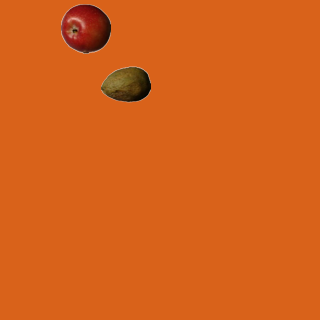Apple Braeburn: (60, 3, 110, 53)
Papaya: (100, 59, 150, 109)
